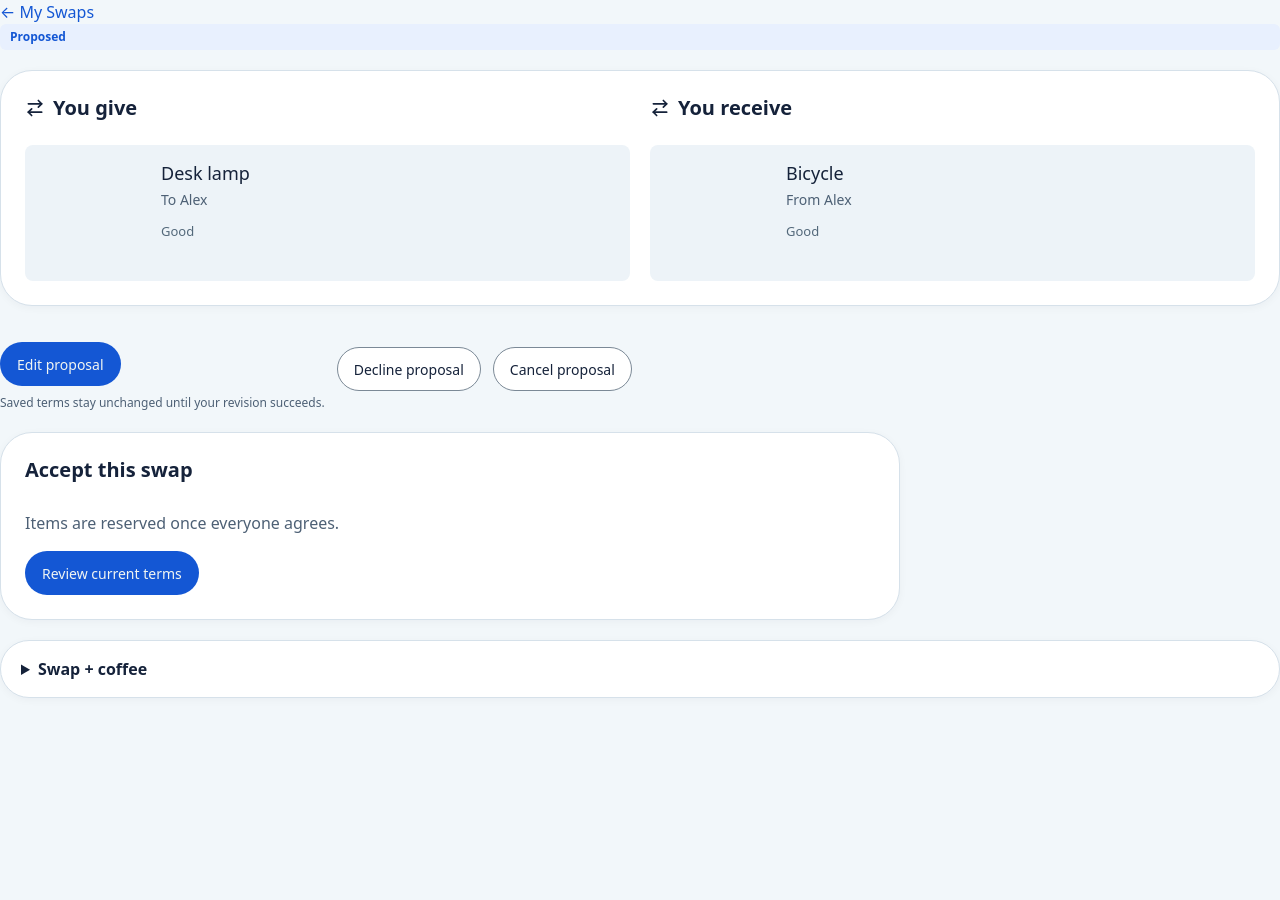
Test: conflict refresh updates shared detail while preserving the independent older draft
Click the button "Edit proposal": [60, 364] box [0, 342, 120, 386]
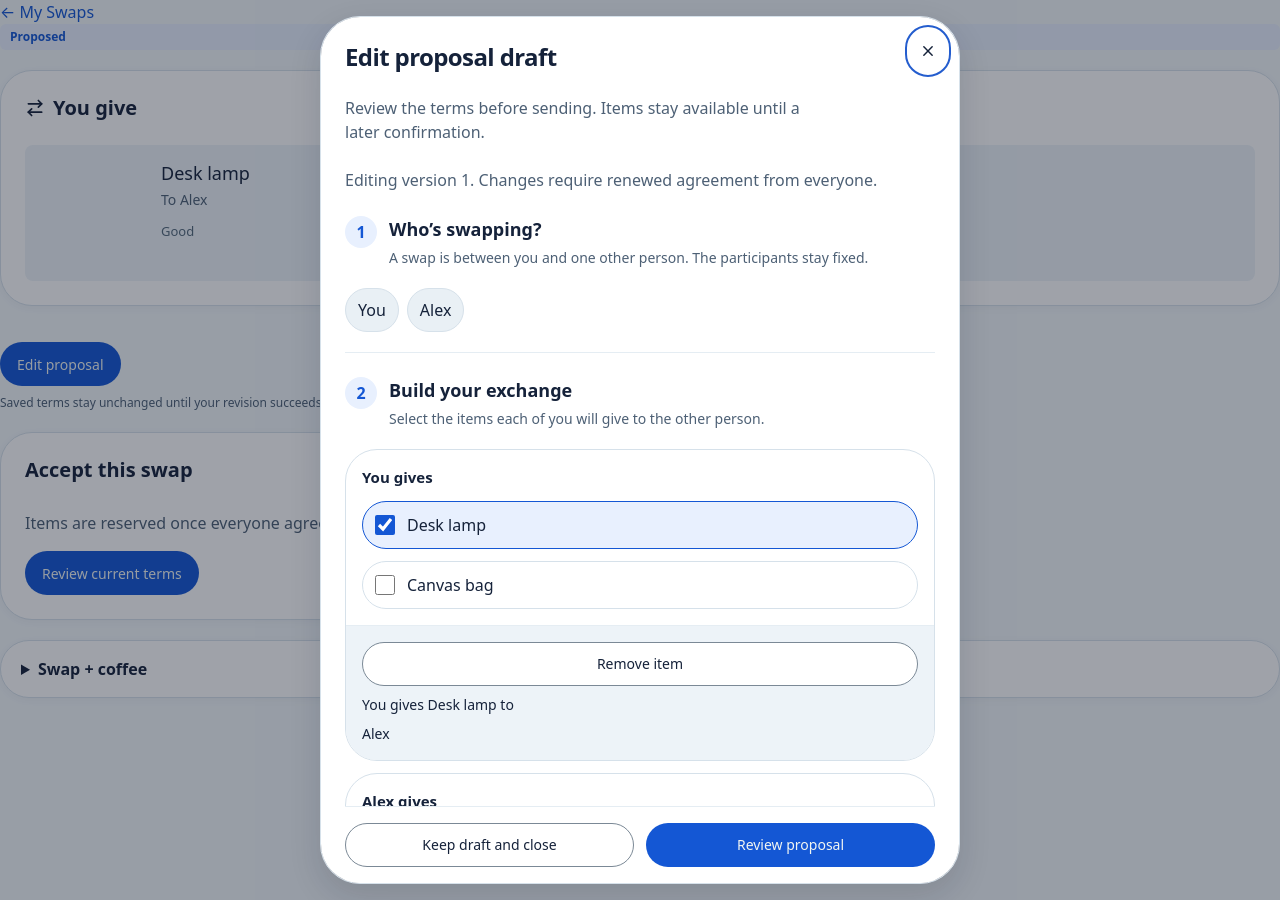
Click the checkbox labelled "Canvas bag": [385, 585] box [375, 575, 395, 595]
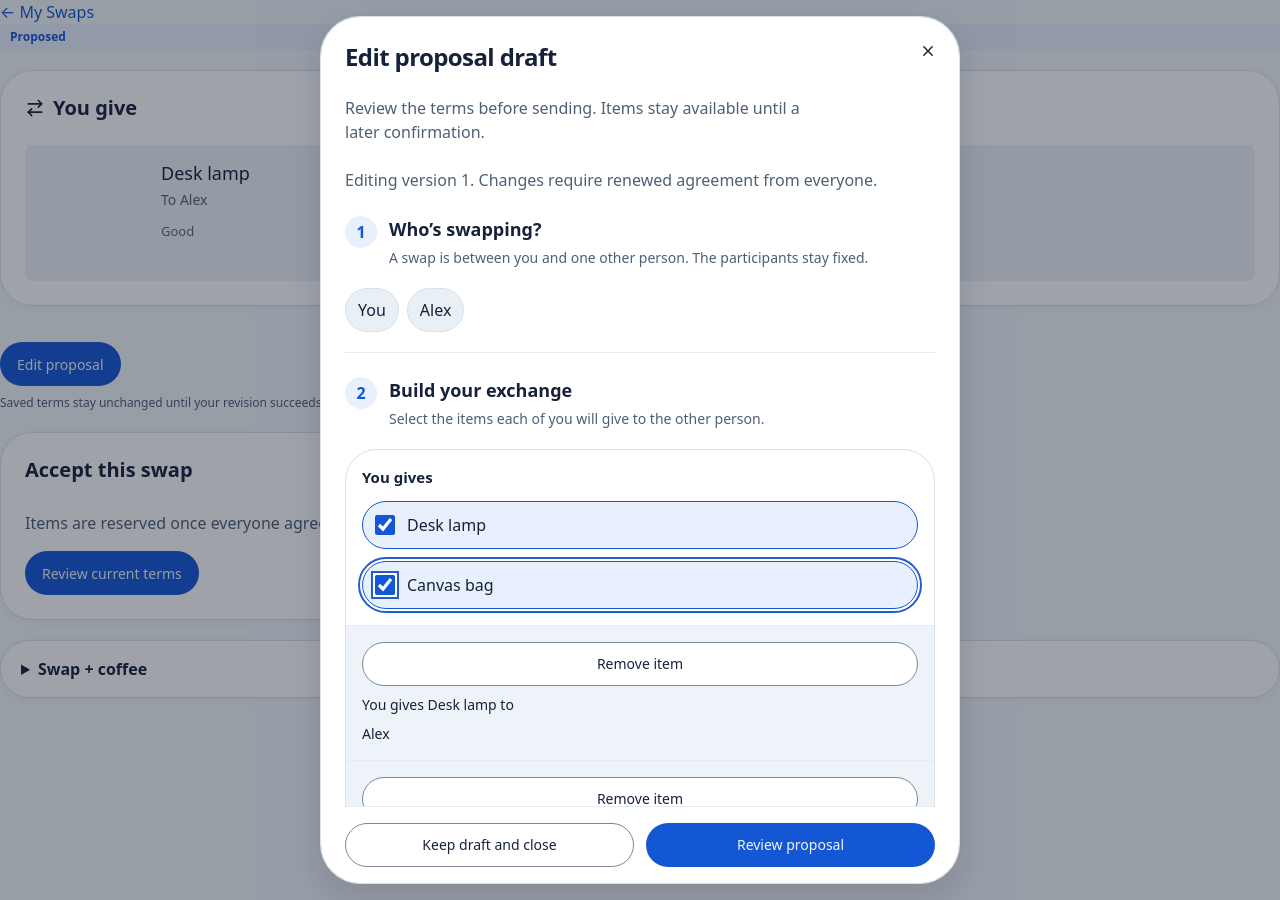
Click the button "Review proposal": [790, 845] box [646, 823, 935, 867]
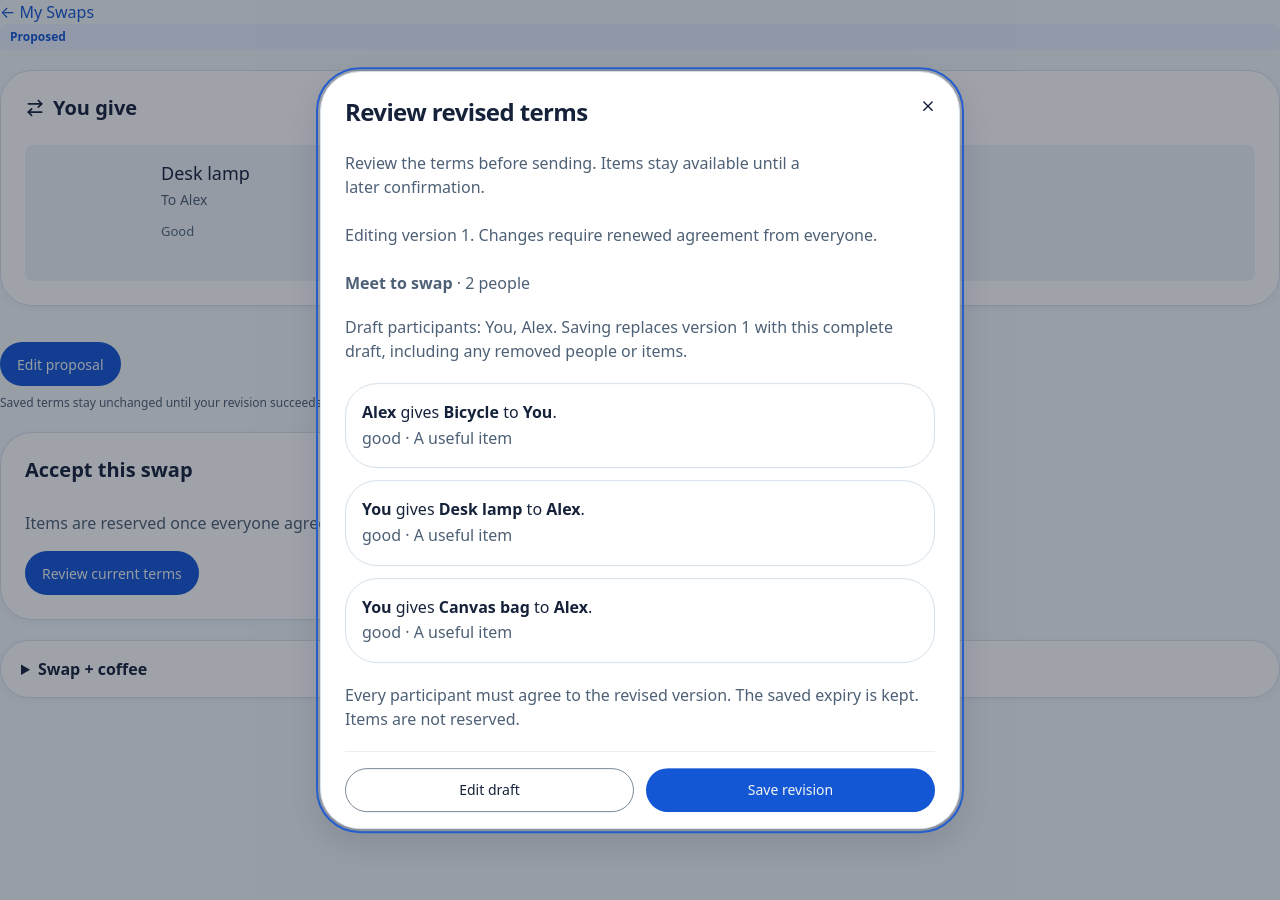
Click the button "Save revision": [790, 790] box [646, 768, 935, 812]
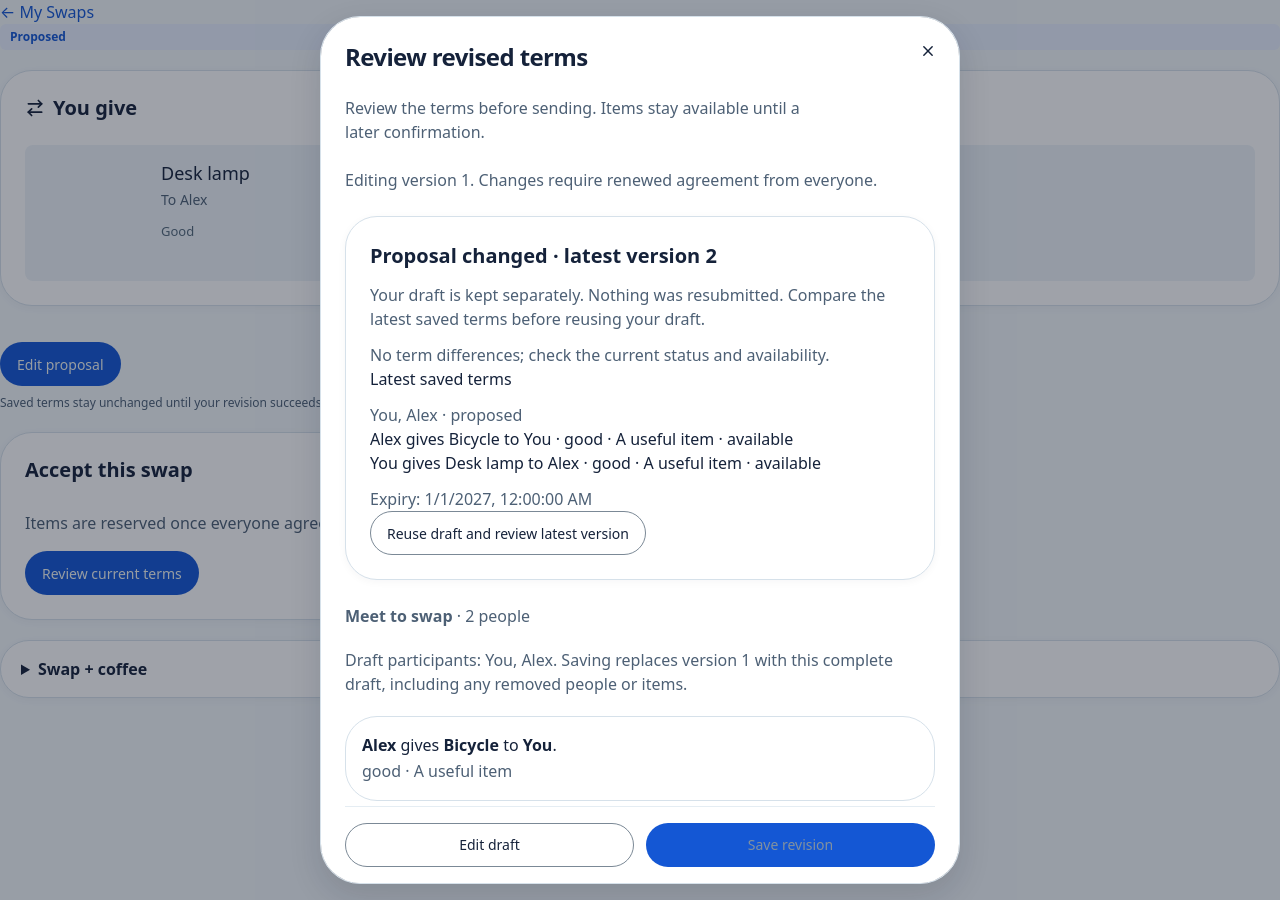
Check: the element named "Proposal conflict" shows "latest version 2", box [345, 216, 935, 580]
Press Escape
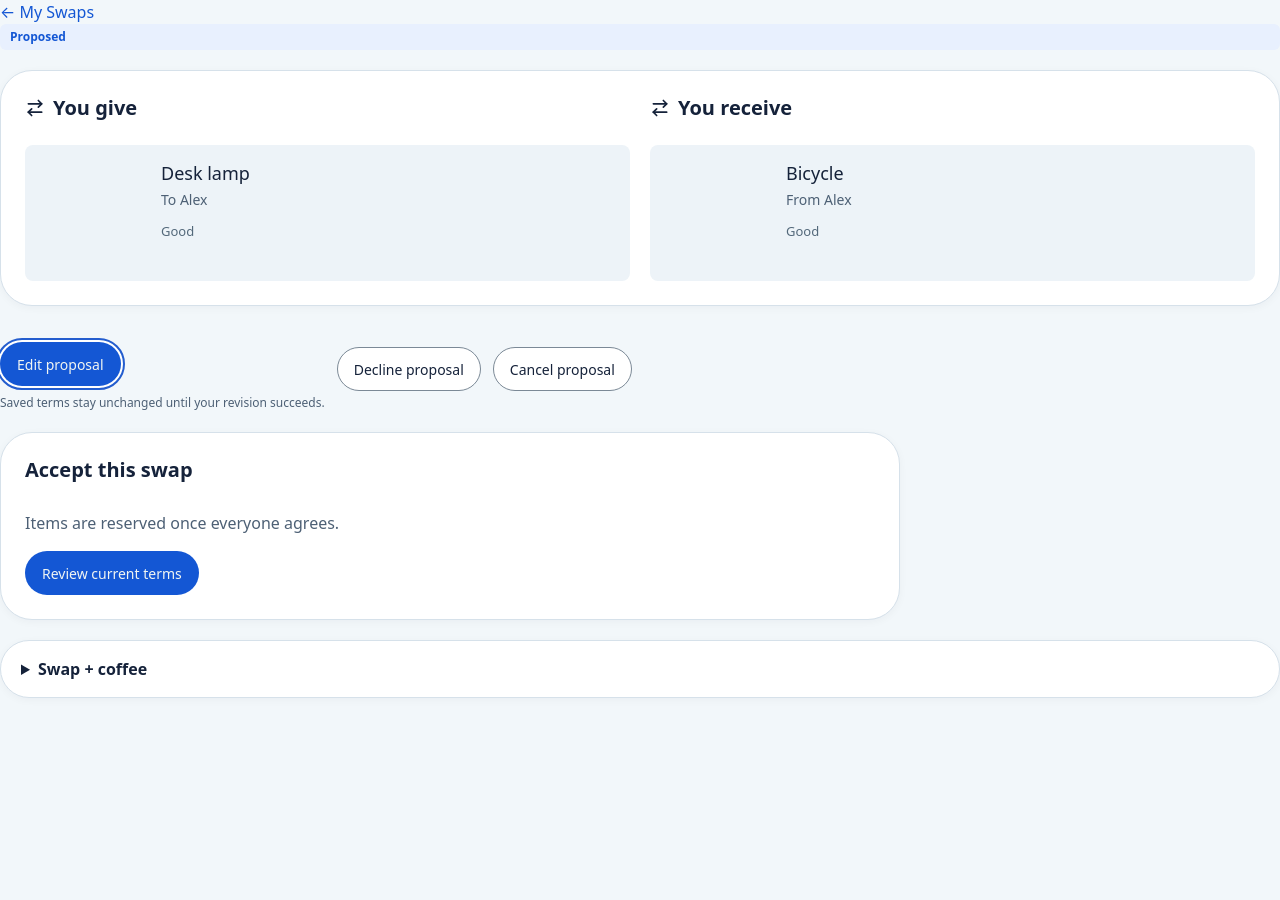
Click the button "Edit proposal": [60, 364] box [0, 342, 120, 386]
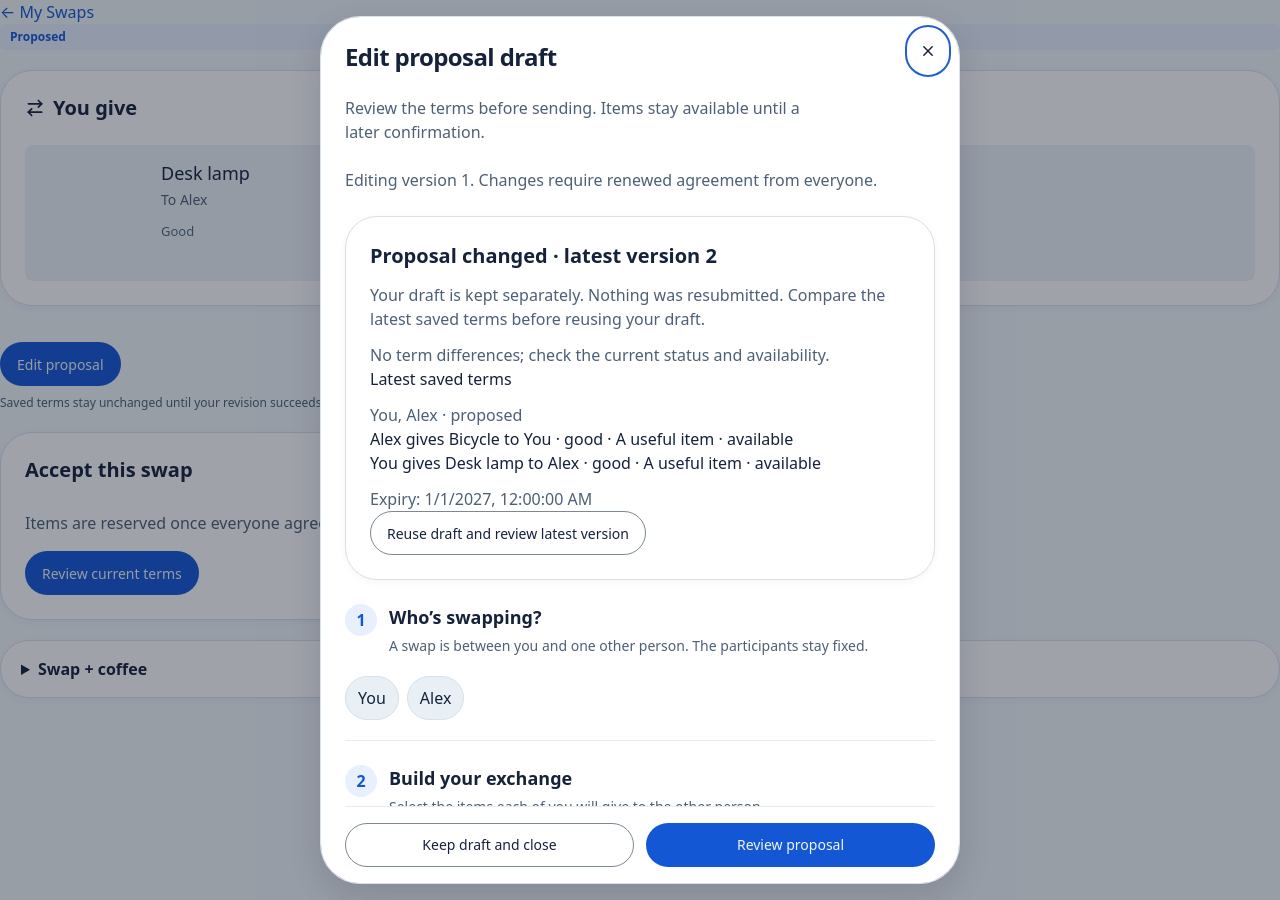
Check: the text "Editing version 1" is shown, box [345, 168, 935, 192]
Check: the element named "Proposal conflict" shows "latest version 2", box [345, 216, 935, 580]
